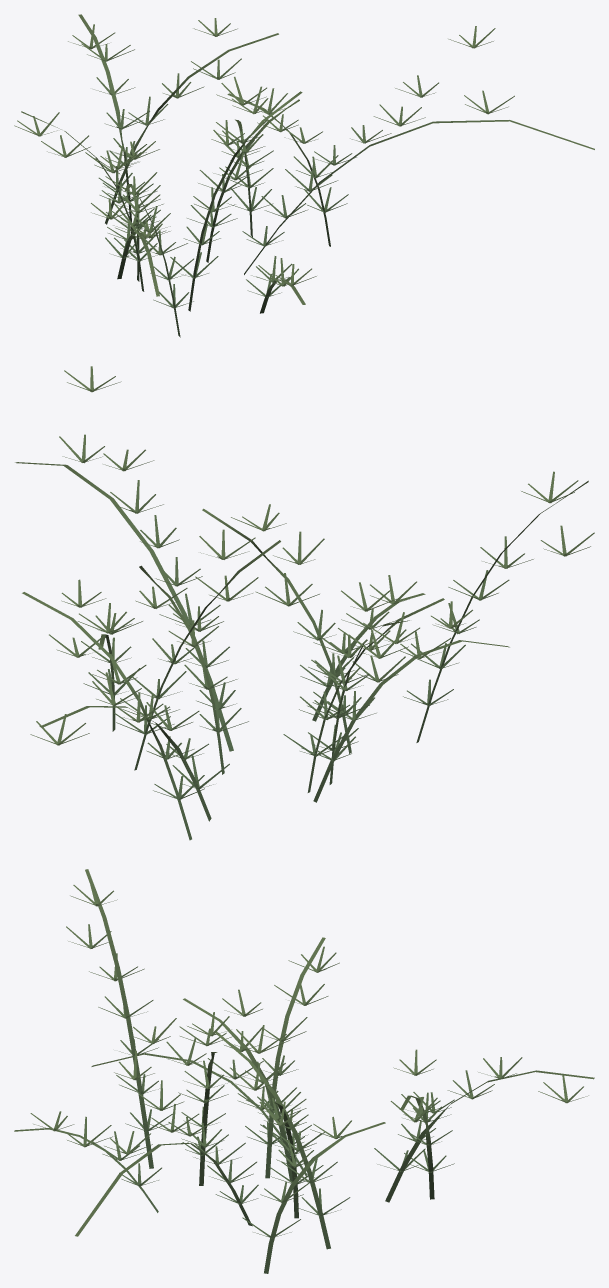
File: chara_1.glb
3 renders of one model, top to bottom at view 1: azimuth 30°, elevation 25°; view 2: azimuth 150°, elevation 25°; view 3: azimuth 270°, elevation 25°, orthographic. The views are drawn at different scales.
Visible parts, largest first — view 1: chara_1; view 2: chara_1; view 3: chara_1.
Boxes of the visible parts, x1,y1,x2,y2 form: chara_1: (14, 14, 594, 337); chara_1: (15, 366, 594, 840); chara_1: (14, 869, 594, 1273).
Size of the model in its own units: 0.5204 by 0.2394 by 0.4999.
